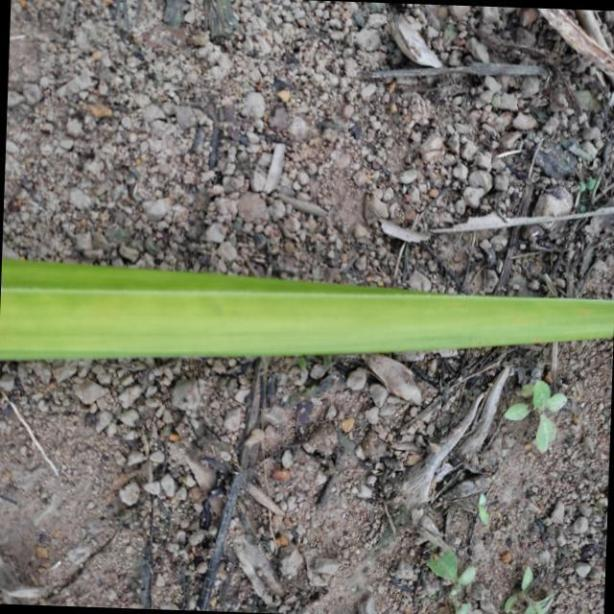nitrogen: (0, 253, 614, 361)
